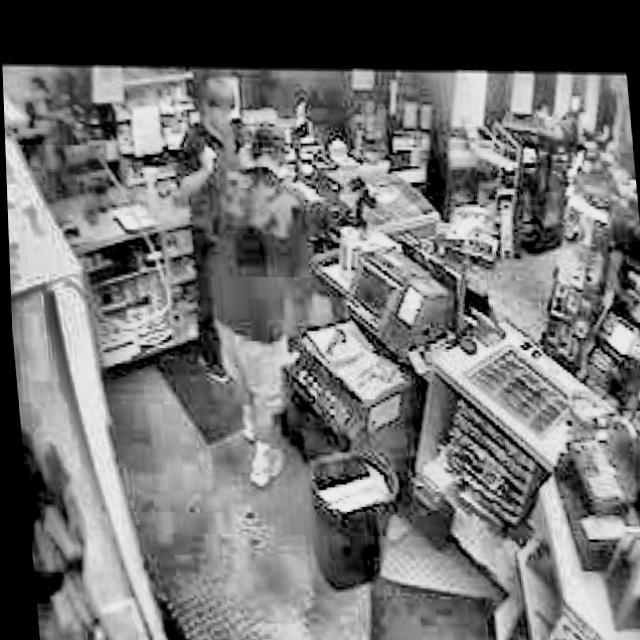robbery: (159, 67, 257, 204)
